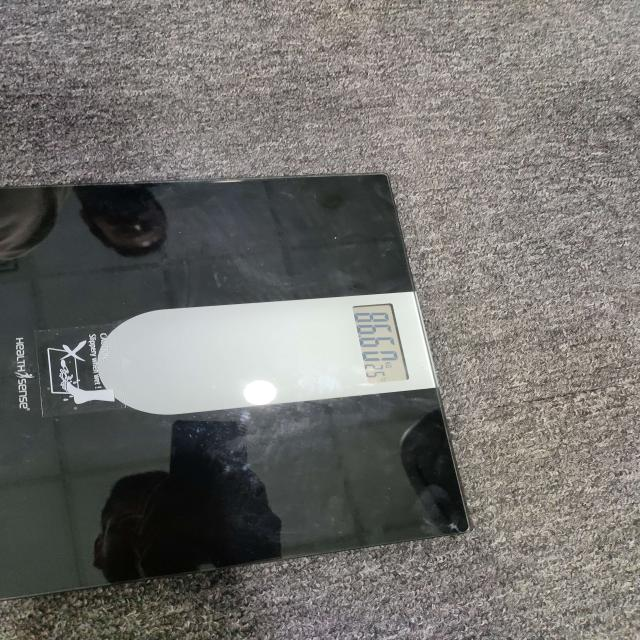ws: (0, 176, 466, 594)
